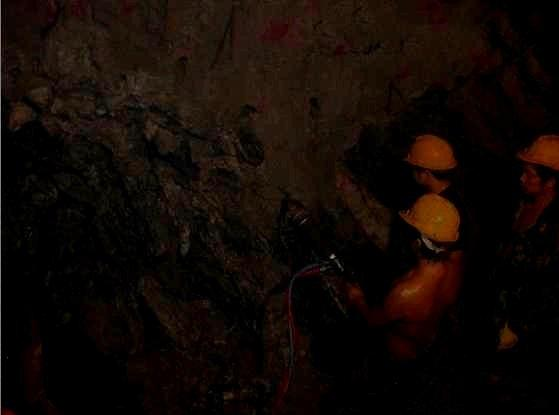helmet: (397, 191, 460, 262), (403, 133, 457, 188), (514, 134, 559, 194)
